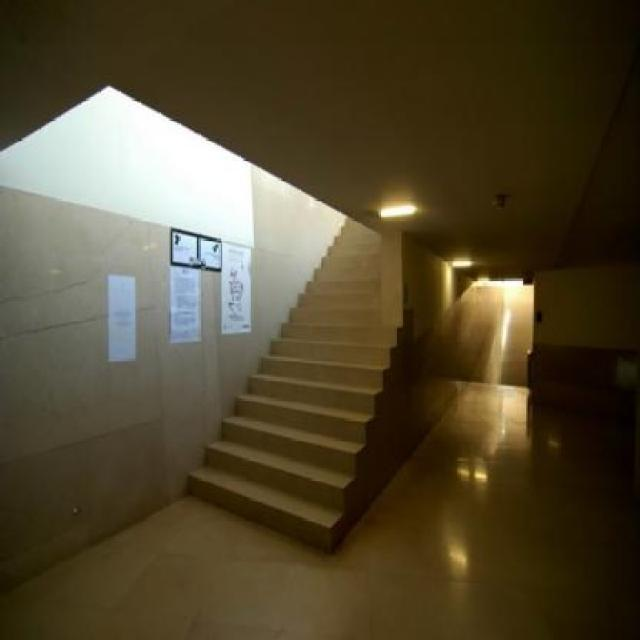stair: (185, 211, 408, 557)
